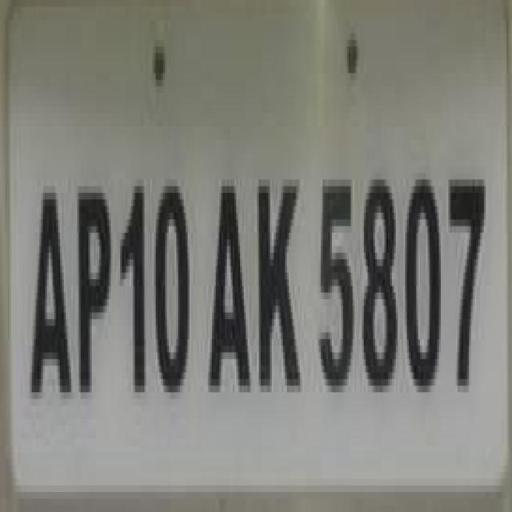number plate: (0, 6, 491, 472)
